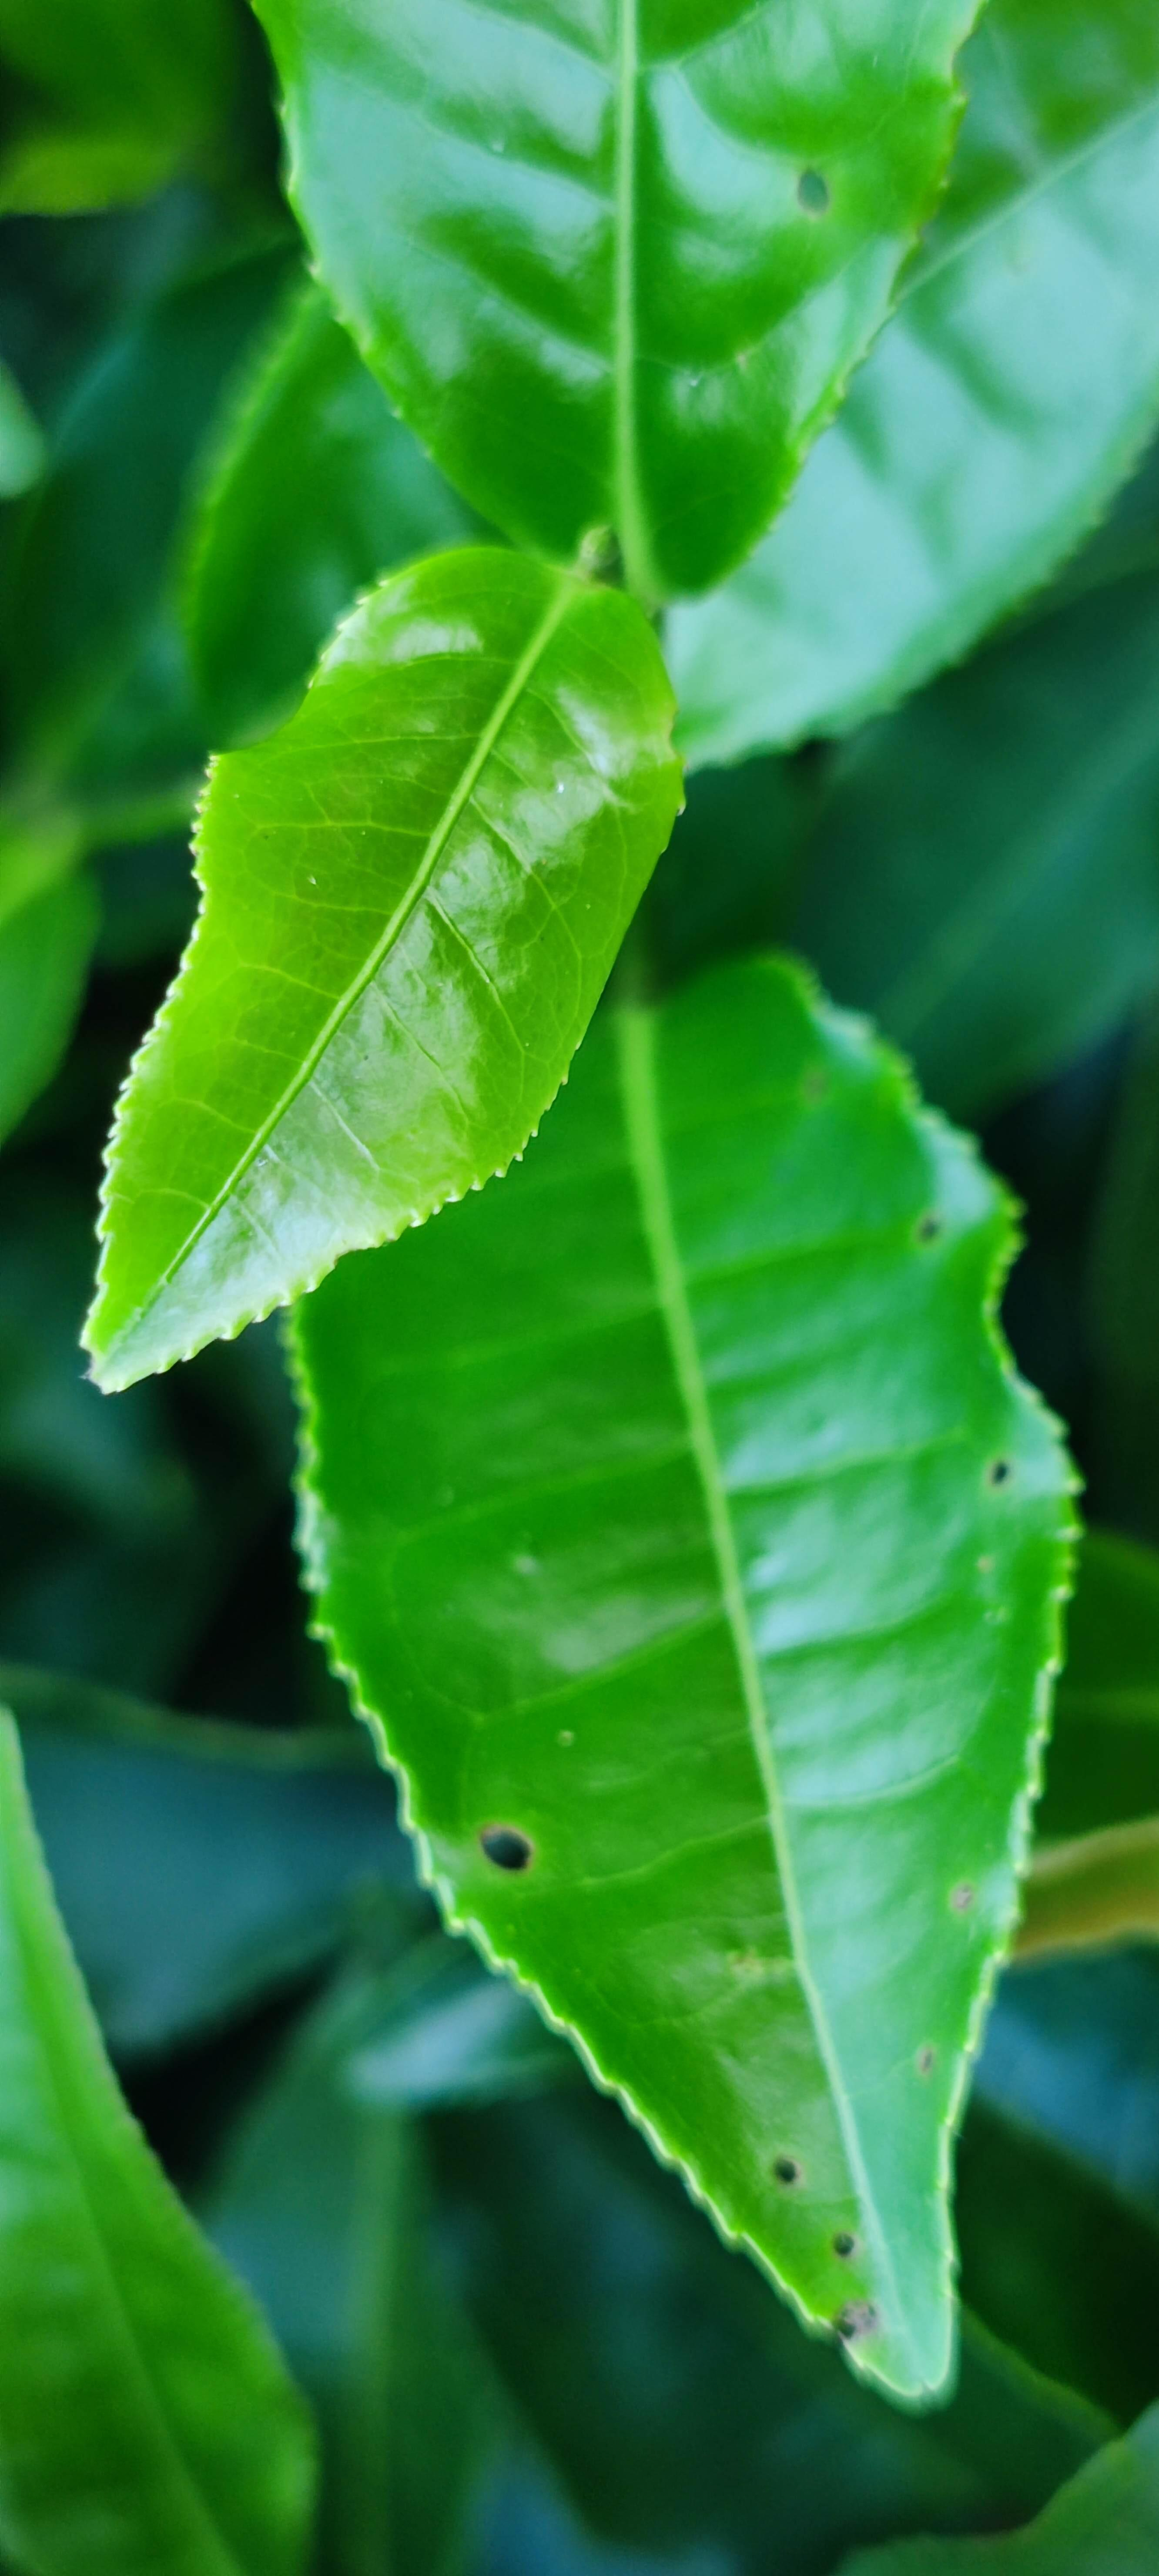chihuo_high: (277, 953, 1090, 2417)
chihuo_low: (245, 2, 995, 596)
healthy: (77, 540, 688, 1396)
